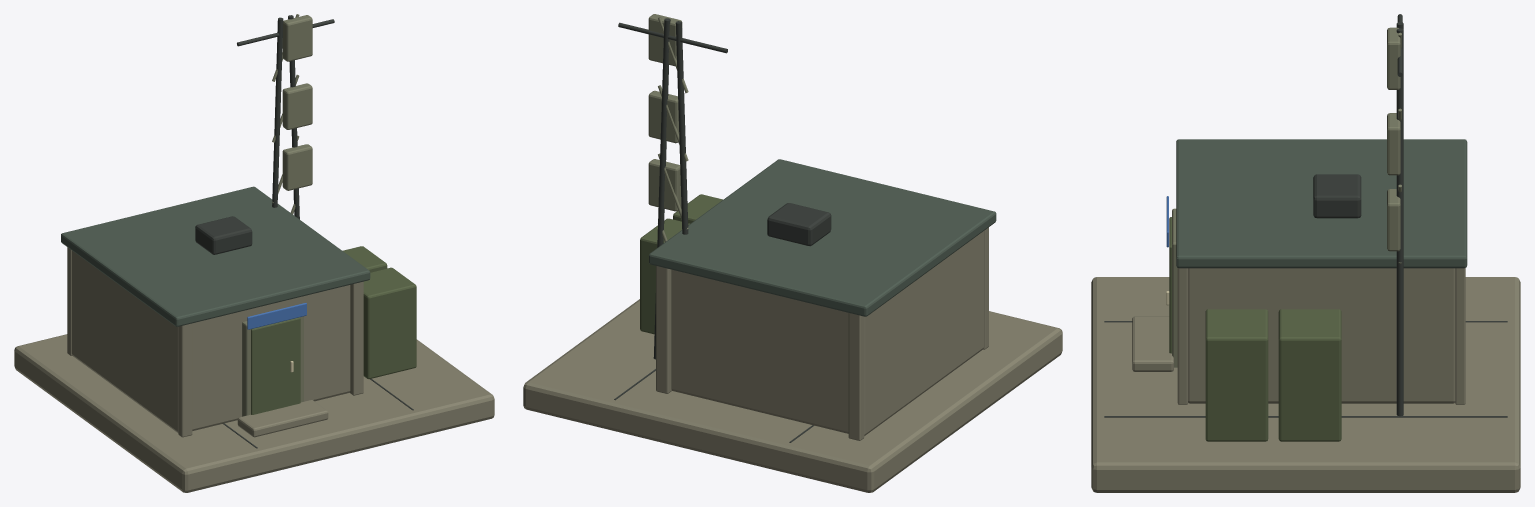
File: commrelay.glb
The picture shows the model from 3 angles, left to right: view 1: azimuth 30°, elevation 25°; view 2: azimuth 150°, elevation 25°; view 3: azimuth 270°, elevation 25°; orthographic projection. The views are drawn at different scales.
Parts seen in each view (by area): view 1: Concrete, RoofMetal, Armor, EdgeSteel, Steel, TeamColor; view 2: Concrete, RoofMetal, Steel, EdgeSteel, Armor; view 3: Concrete, RoofMetal, Armor, Steel, EdgeSteel.
Part boxes in pixels (x1,y1,x2,y2): Concrete: (14,247,494,492); RoofMetal: (61,186,370,326); Armor: (251,246,416,414); EdgeSteel: (242,14,312,416); Steel: (195,15,413,448); TeamColor: (247,303,306,329); Concrete: (523,227,1062,492); RoofMetal: (649,159,996,316); Steel: (614,18,831,442); EdgeSteel: (648,14,688,241); Armor: (640,194,722,334); Concrete: (1091,268,1520,492); RoofMetal: (1176,139,1467,268); Armor: (1169,217,1341,441); Steel: (1104,14,1507,417); EdgeSteel: (1172,27,1401,367).
Size of the model in its own units: 4.3 by 4.39 by 4.1.
